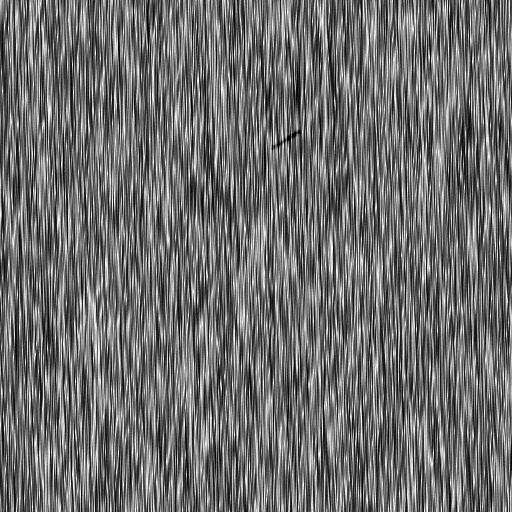DefectTypeC: (268, 126, 302, 147)
